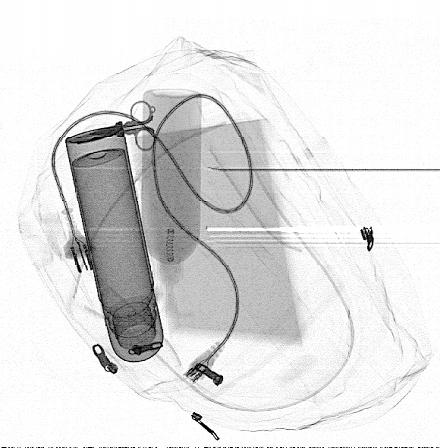Scissors: (89, 101, 157, 153)
